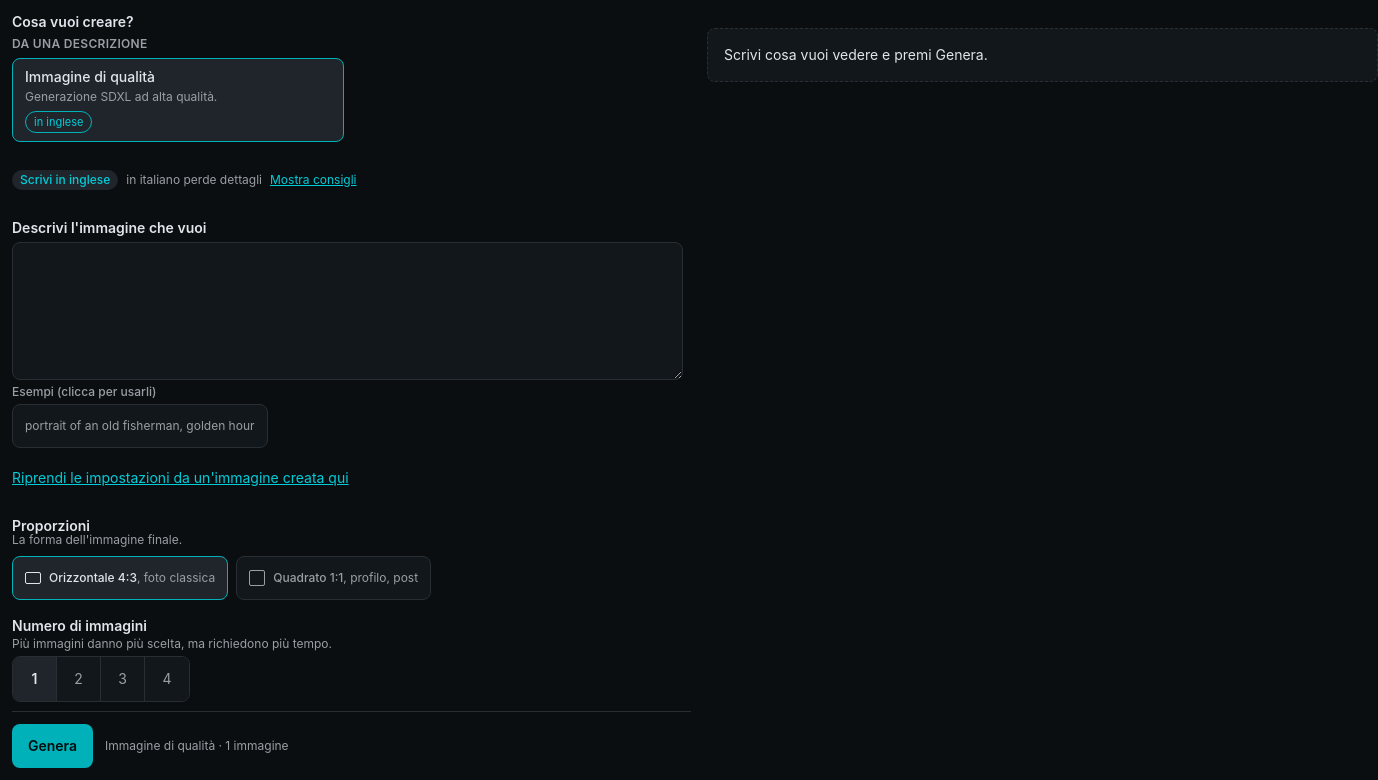
Test: CreatePage job lifecycle › shows a generic Italian message when job creation fails with a non-API error
Type "portrait of an old fisherman" into the text box labelled "Descrivi l'immagine che vuoi".
click(348, 311); type("portrait of an old fisherman")  # box x1=12 y1=242 x2=683 y2=380
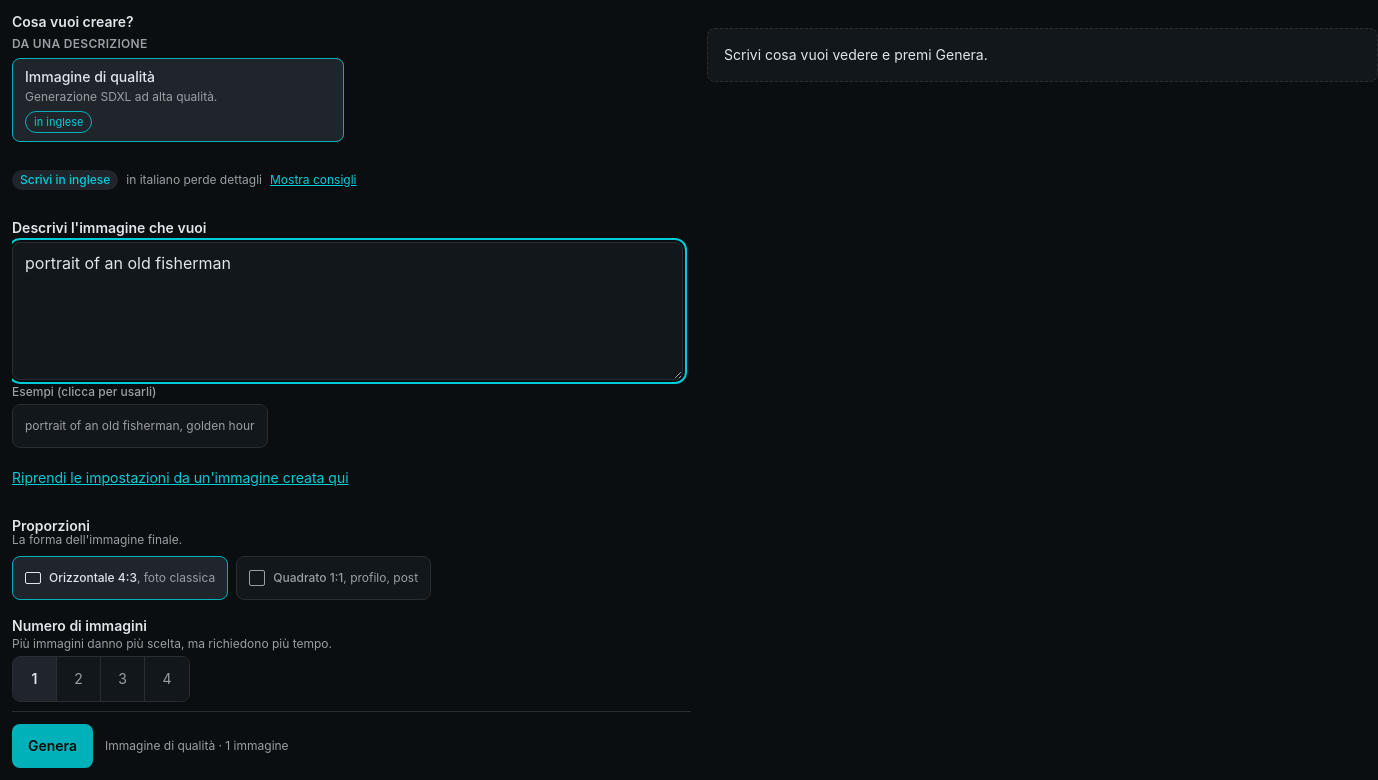
Click the button "Genera".
click(53, 746)  # box x1=12 y1=724 x2=93 y2=768
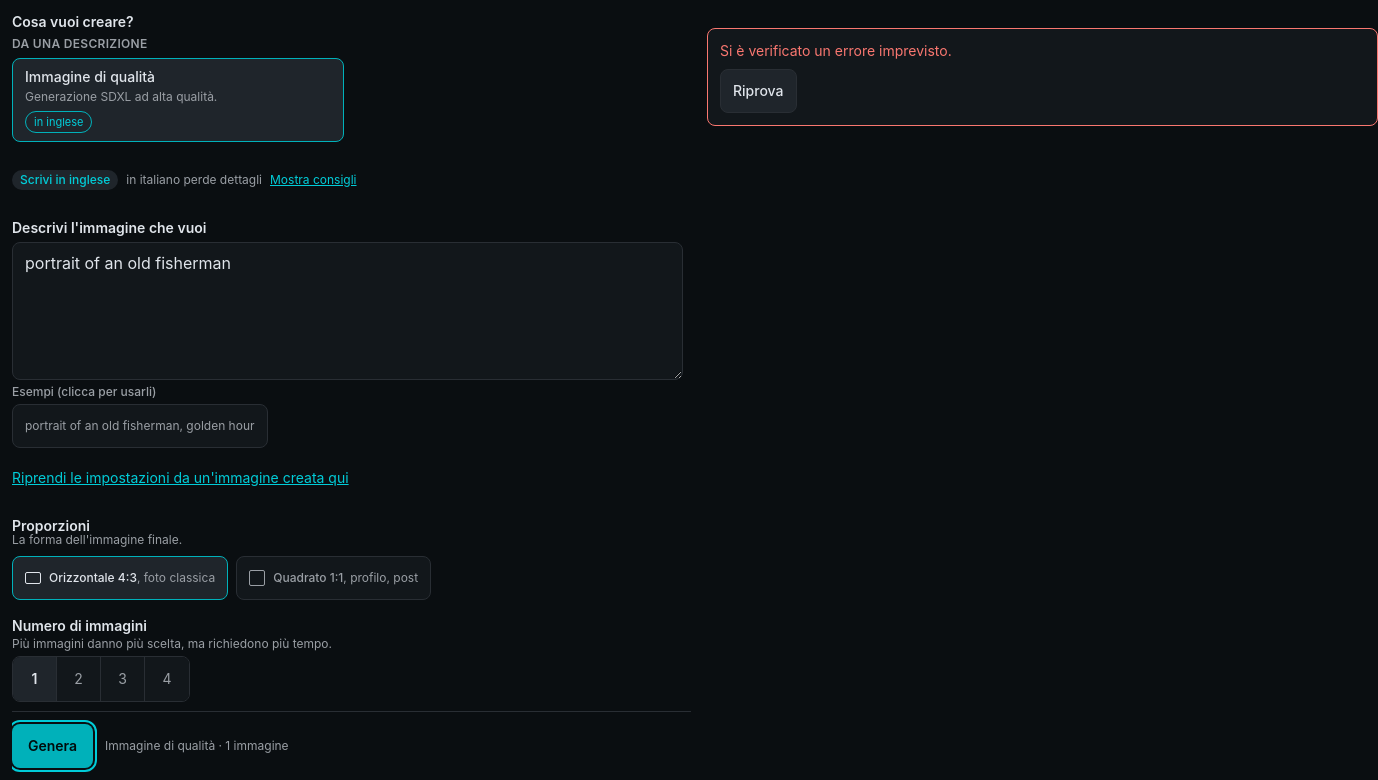
Result: the text "Si è verificato un errore imprevisto." is shown at x1=720 y1=42 x2=952 y2=59
